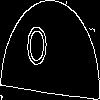O: (25, 24, 48, 75)
